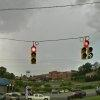Traffic light: (21, 36, 43, 71)
